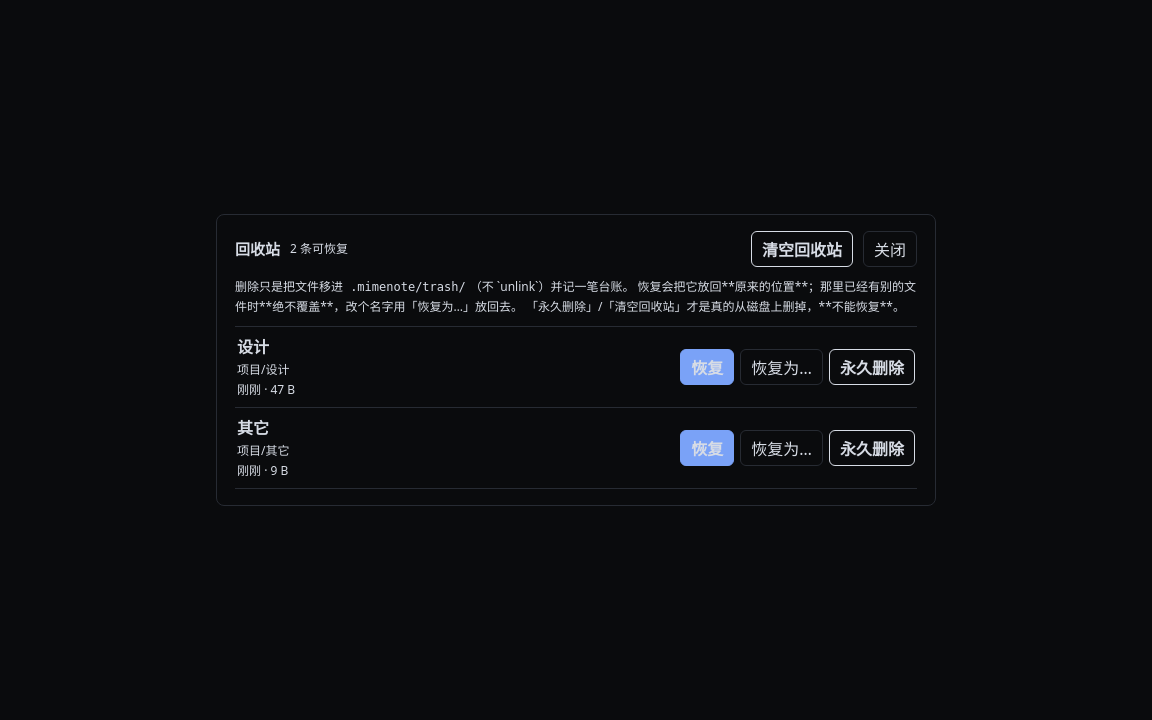
it: 永久删除与清空 › 顶部「清空回收站」：确认 → trash_empty → 逐项汇报，列表清空
Click the button "清空回收站" at point(802, 249), box [751,231,853,267]
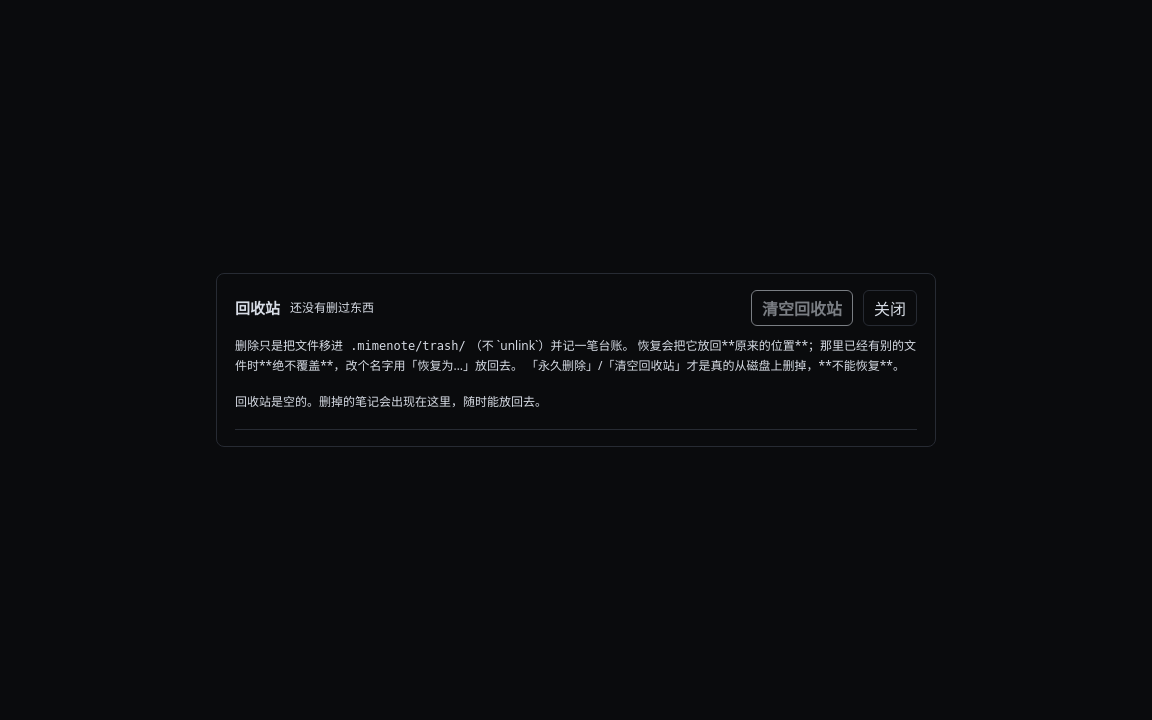
Expected: the text "设计" is gone
Expected: the text "其它" is gone
